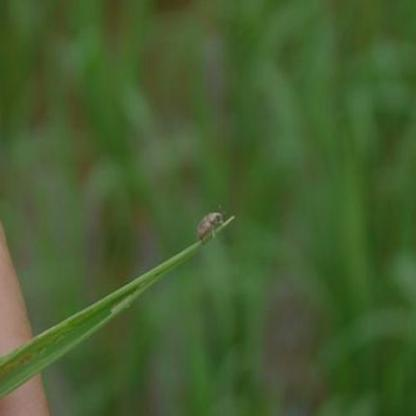rice-bug: (195, 209, 224, 243)
